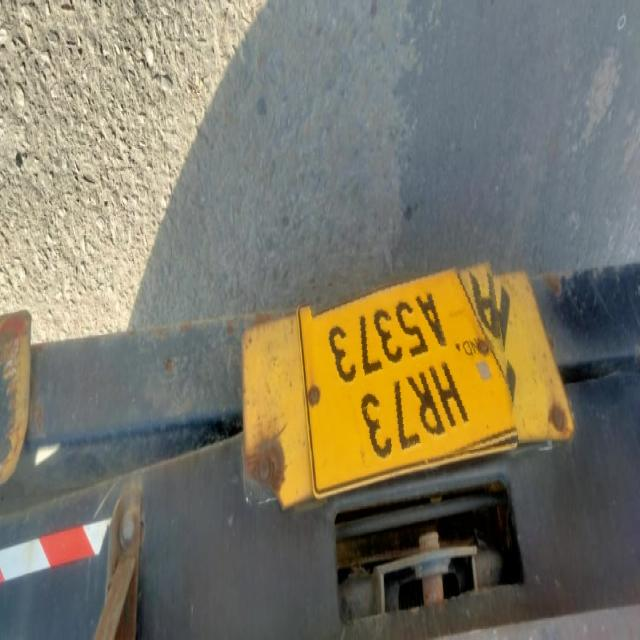License-plate: (315, 268, 512, 464)
